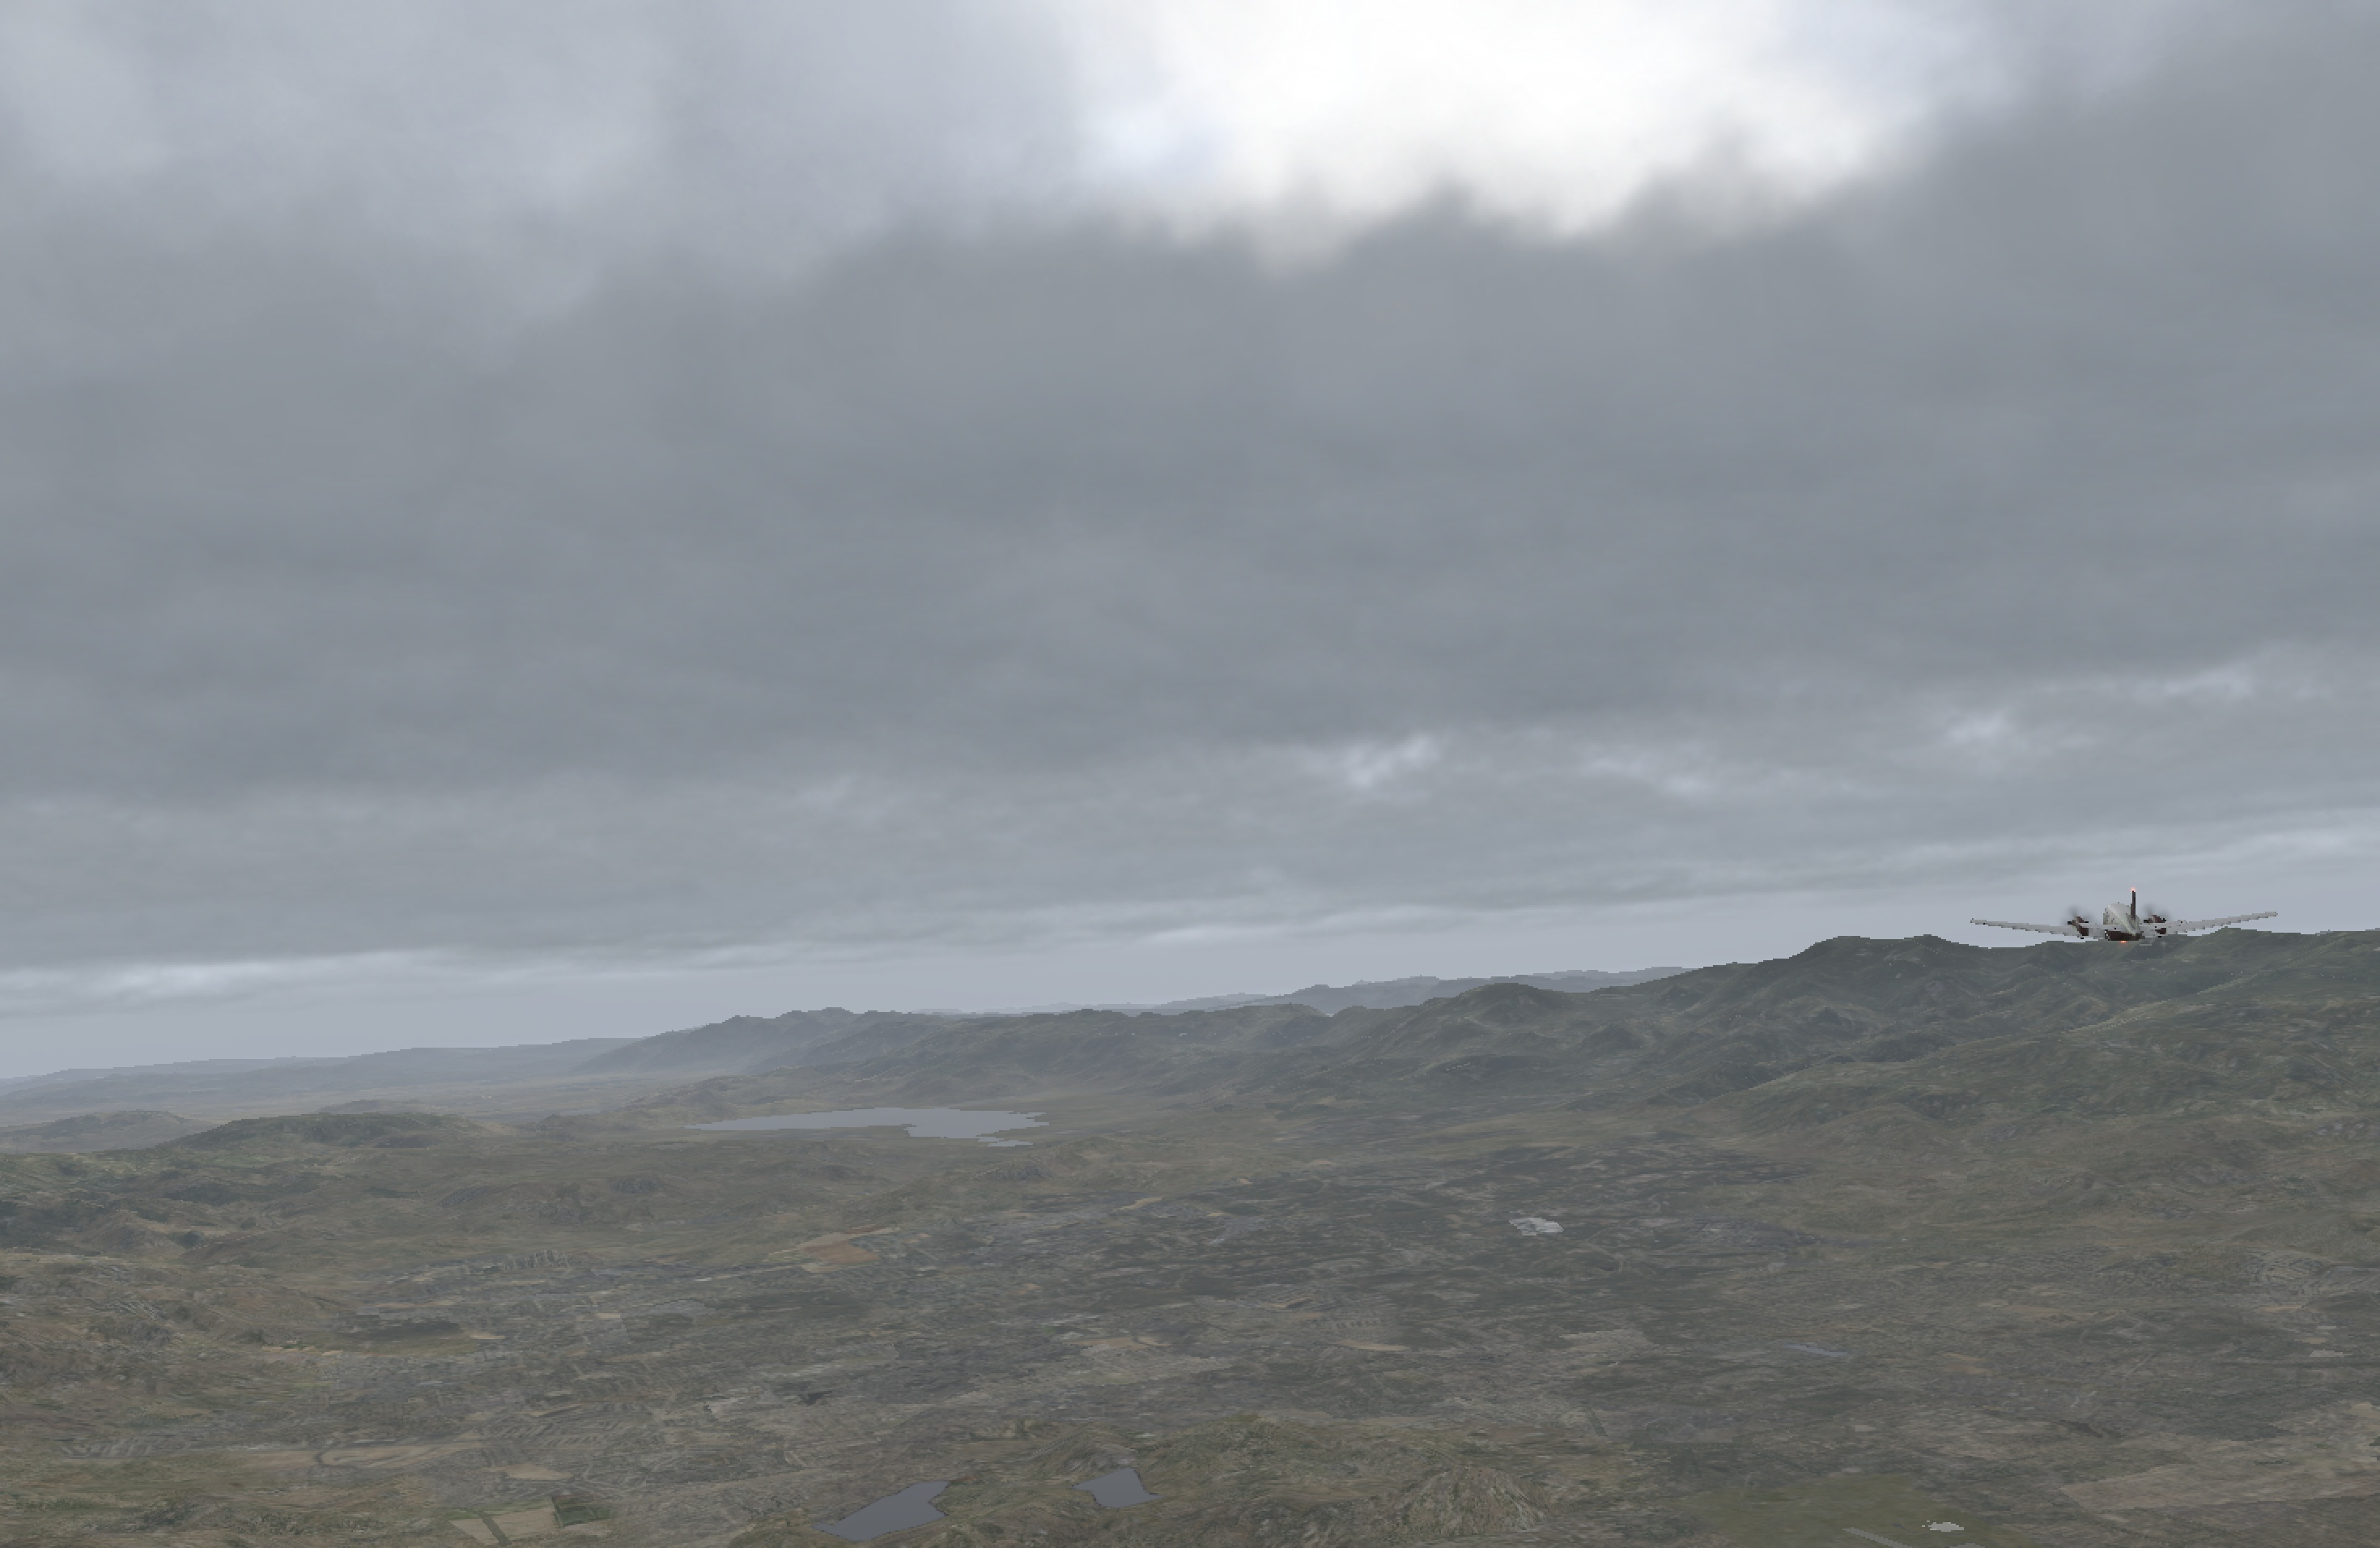aircraft: (1991, 887, 2250, 982)
